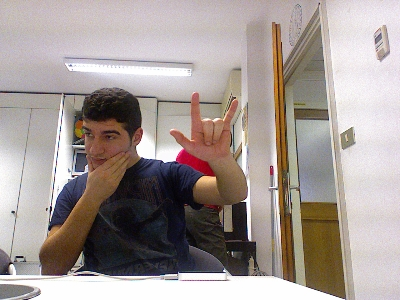我爱你: (168, 91, 238, 163)
